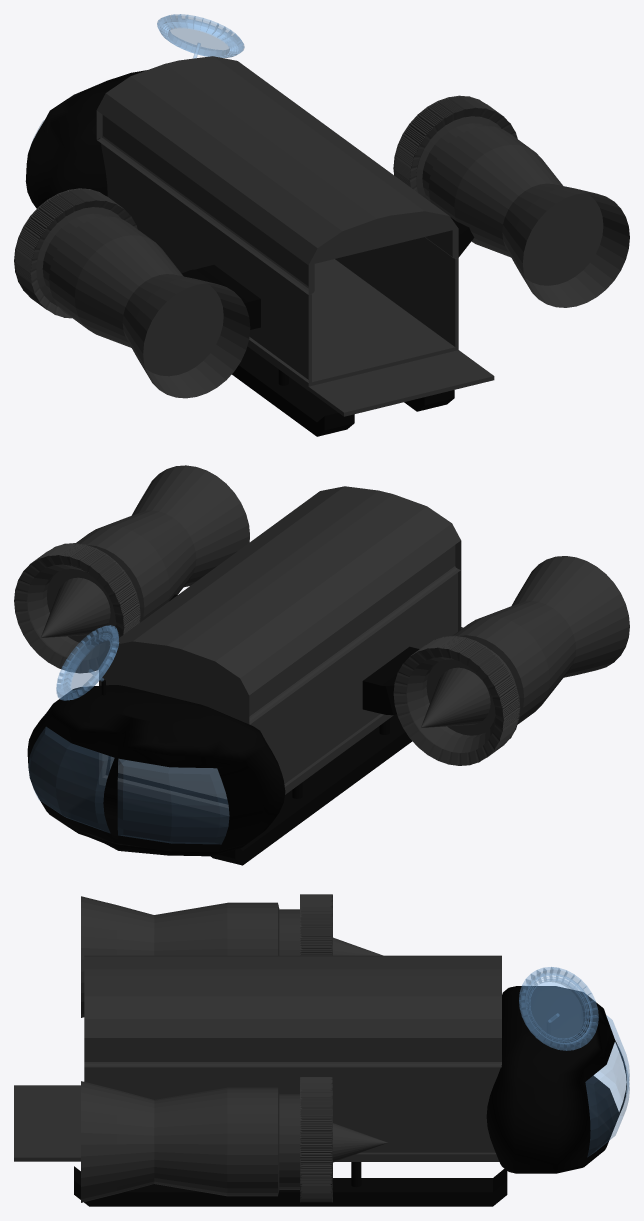
Rendered from Space_ship.glb.
The picture shows the model from 3 angles, top to bottom: view 1: azimuth 30°, elevation 25°; view 2: azimuth 150°, elevation 25°; view 3: azimuth 270°, elevation 25°; orthographic projection.
Parts seen in each view (by area): view 1: Cube.001; view 2: Cube.001; view 3: Cube.001.
Boxes of the visible parts, x1,y1,x2,y2 form: Cube.001: (14,14,629,436); Cube.001: (14,465,629,865); Cube.001: (14,894,629,1206).
Bounding box in the file's own units: 12.88 × 5.72 × 14.23.
